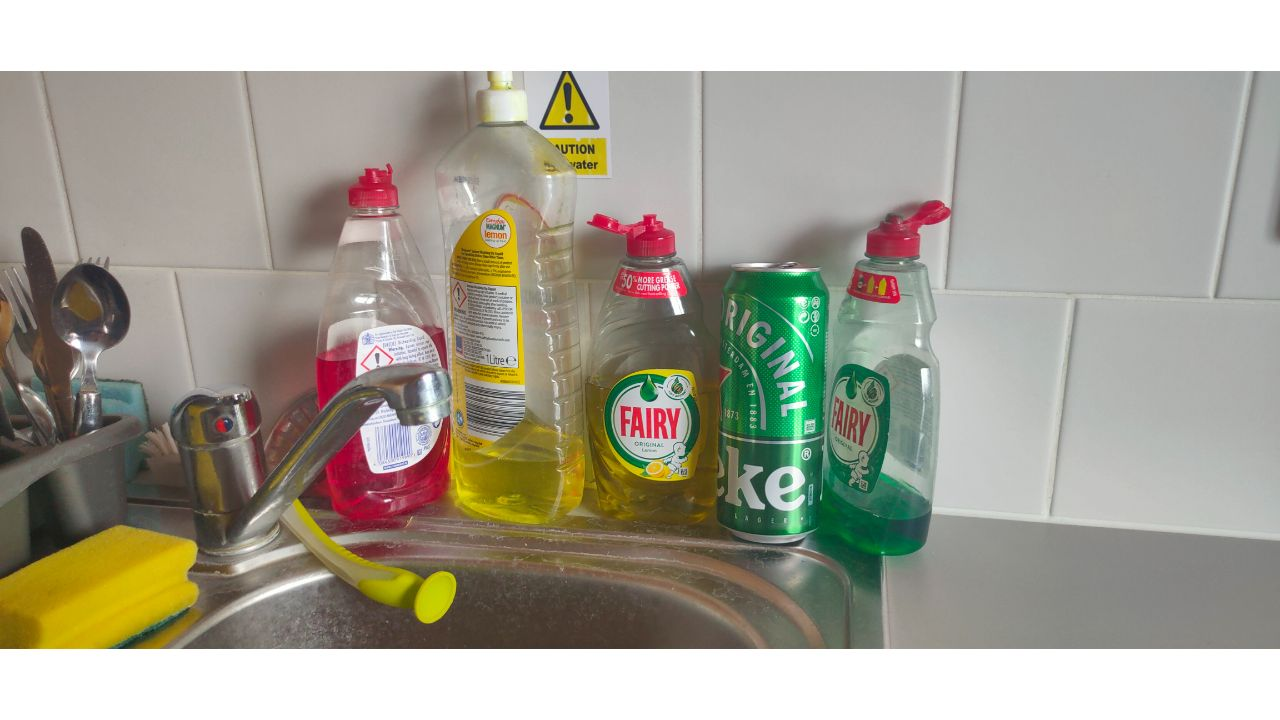Can: (716, 255, 826, 547)
